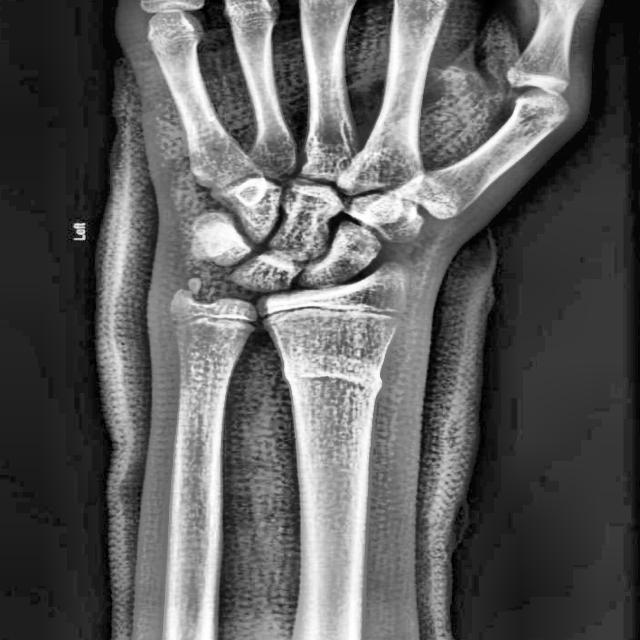fracture: (284, 369, 388, 394)
